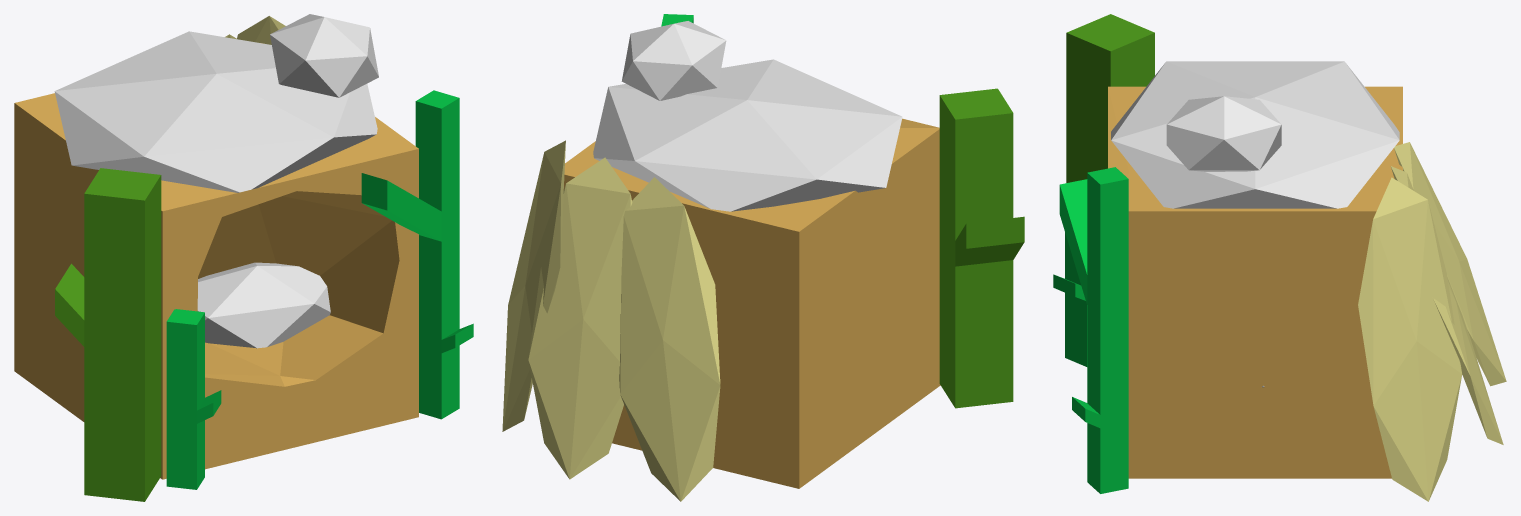
Rendered from 乾燥帯の巣.fbx.
3 views of the same model, side by side, from view 1: azimuth 30°, elevation 25°; view 2: azimuth 150°, elevation 25°; view 3: azimuth 270°, elevation 25° (orthographic). The views are drawn at different scales.
Visible parts, largest first — view 1: 立方体, ICO球.001, 円柱, 円柱.001, ICO球.004; view 2: 立方体, ICO球.004, ICO球.001, 円柱; view 3: 立方体, ICO球.001, ICO球.004, 円柱.001, 円柱.
Boxes of the visible parts, box(x1,y1,x2,y2) form: 立方体: box(14, 43, 418, 479); ICO球.001: box(54, 14, 378, 348); 円柱: box(55, 168, 161, 501); 円柱.001: box(166, 90, 473, 489); ICO球.004: box(225, 16, 285, 44); 立方体: box(563, 118, 940, 488); ICO球.004: box(502, 140, 720, 501); ICO球.001: box(593, 21, 902, 211); 円柱: box(939, 88, 1024, 408); 立方体: box(1108, 86, 1402, 478); ICO球.001: box(1111, 61, 1399, 387); ICO球.004: box(1358, 142, 1506, 501); 円柱.001: box(1053, 167, 1128, 493); 円柱: box(1066, 14, 1154, 182).
Size of the model in its own units: 324 by 276 by 307.
